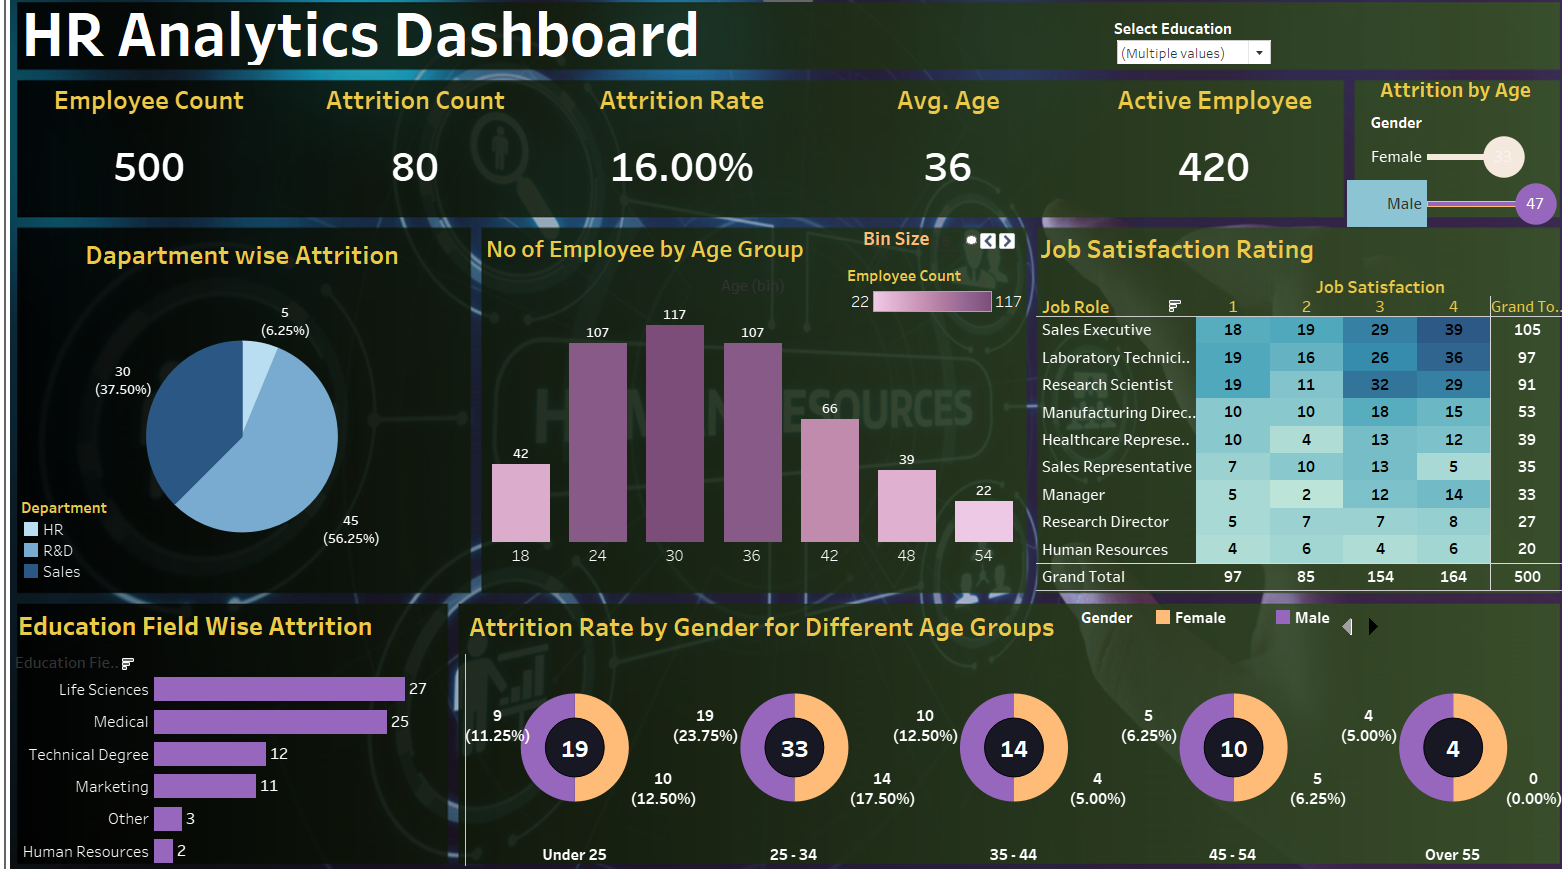

What the dashboard file says about the page in this screenshot:
{"tool":"tableau","page":{"name":"HR Analytics dashboard","canvas":[1580,900],"ordinal":0},"visuals":[{"type":"image","param":"Image/HR background.png","box":[8,8,1564,884]},{"type":"text","box":[20,15,1545,67]},{"type":"filter","title":"Dapartment wise Attrition","param":"[federated.1r5s3c30v1nmgw15yxozb0aaqcf5].[none:Education:nk]","box":[1116,35,160,46]},{"type":"worksheet","title":"Attrition by Age","mark":"Automatic","rows":["Gender"],"cols":["Calculation_208854486132912128","Calculation_208854486132912128"],"box":[1349,88,217,156]},{"type":"worksheet","title":"KPI","mark":"Automatic","box":[18,93,1332,139]},{"type":"worksheet","title":"Job Satisfaction Rating","mark":"Square","rows":["Job Role"],"cols":["Job Satisfaction"],"box":[1038,244,529,364]},{"type":"worksheet","title":"No of Employee by Age Group","mark":"Automatic","rows":["Employee Count"],"cols":["Age (bin)"],"box":[484,245,541,339]},{"type":"parameter","param":"[Parameters].[Parameter 1]","box":[865,245,155,39]},{"type":"worksheet","title":"Dapartment wise Attrition","mark":"Pie","box":[19,250,450,358]},{"type":"legend","title":"No of Employee by Age Group","param":"[federated.1r5s3c30v1nmgw15yxozb0aaqcf5].[sum:Employee Count:qk]","box":[849,282,180,59]},{"type":"legend","title":"Dapartment wise Attrition","param":"[federated.1r5s3c30v1nmgw15yxozb0aaqcf5].[none:Department:nk]","box":[23,514,140,90]},{"type":"worksheet","title":"Education Field Wise Attrition","mark":"Automatic","rows":["Education Field"],"cols":["Calculation_208854486132912128"],"box":[16,621,438,263]},{"type":"worksheet","title":"Attrition Rate by Gender for Different Age Groups","mark":"Pie","rows":["Calculation_762797240391114753","Calculation_762797240391114753"],"cols":["CF_age band"],"box":[467,622,1099,262]},{"type":"legend","title":"Attrition Rate by Gender for Different Age Groups","param":"[federated.1r5s3c30v1nmgw15yxozb0aaqcf5].[none:Gender:nk]","box":[1083,624,307,38]}]}

Visuals, with their boxes in screenshot pixels (x1, y1, x2, y2), scaled from the page's 1580x900 canvas onto the 1562x869 screenshot:
image: x1=8 y1=8 x2=1554 y2=861
text: x1=20 y1=14 x2=1547 y2=79
"Dapartment wise Attrition" filter: x1=1103 y1=34 x2=1261 y2=78
"Attrition by Age" worksheet: x1=1334 y1=85 x2=1548 y2=236
"KPI" worksheet: x1=18 y1=90 x2=1335 y2=224
"Job Satisfaction Rating" worksheet (Square marks): x1=1026 y1=236 x2=1549 y2=587
"No of Employee by Age Group" worksheet: x1=478 y1=237 x2=1013 y2=564
parameter: x1=855 y1=237 x2=1008 y2=274
"Dapartment wise Attrition" worksheet (Pie marks): x1=19 y1=241 x2=464 y2=587
"No of Employee by Age Group" legend: x1=839 y1=272 x2=1017 y2=329
"Dapartment wise Attrition" legend: x1=23 y1=496 x2=161 y2=583
"Education Field Wise Attrition" worksheet: x1=16 y1=600 x2=449 y2=854
"Attrition Rate by Gender for Different Age Groups" worksheet (Pie marks): x1=462 y1=601 x2=1548 y2=854
"Attrition Rate by Gender for Different Age Groups" legend: x1=1071 y1=603 x2=1374 y2=639
